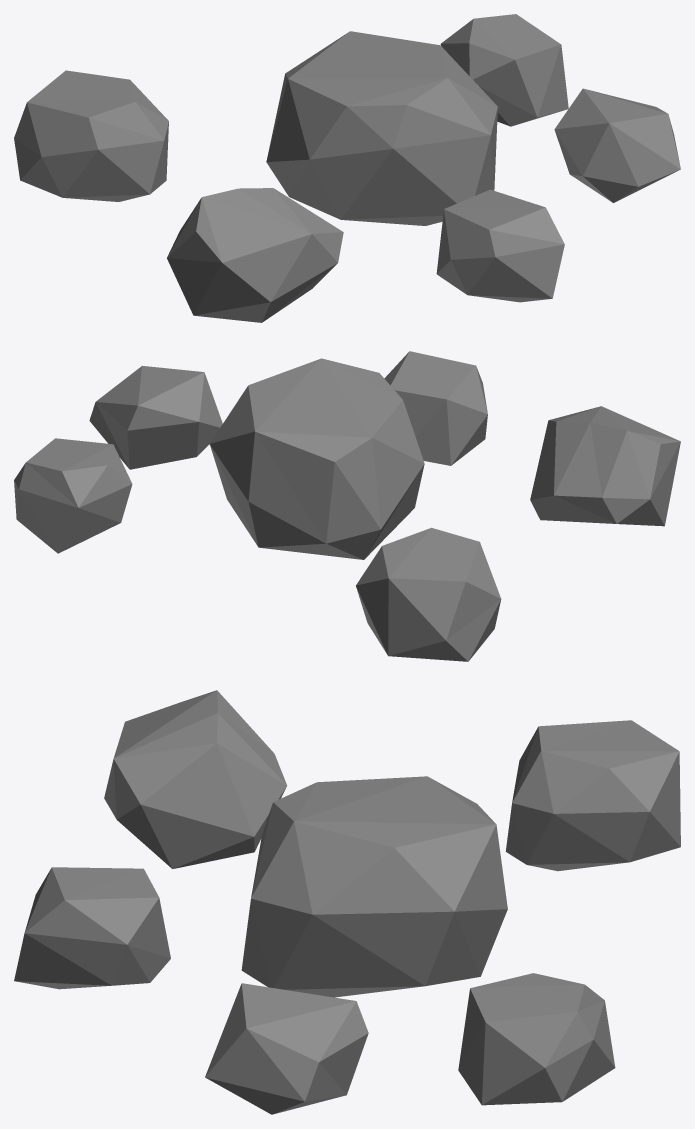
File: Pebbles_2.glb
The picture shows the model from 3 angles, top to bottom: view 1: azimuth 30°, elevation 25°; view 2: azimuth 150°, elevation 25°; view 3: azimuth 270°, elevation 25°; orthographic projection. The views are drawn at different scales.
Parts seen in each view (by area): view 1: Pebbles_2; view 2: Pebbles_2; view 3: Pebbles_2.
Part boxes in pixels (bbox=[...]): Pebbles_2: bbox=[14, 14, 680, 322]; Pebbles_2: bbox=[14, 351, 680, 661]; Pebbles_2: bbox=[14, 690, 680, 1114].
Size of the model in its own units: 0.7313 by 0.1975 by 0.641.
1 material, 1 textured.
